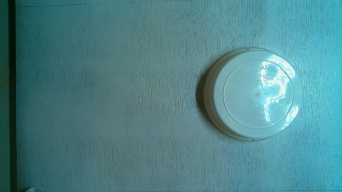f: (199, 45, 306, 140)
